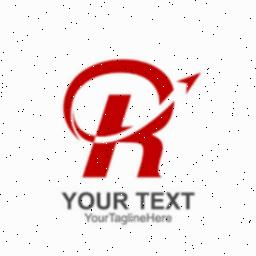e: (150, 190, 166, 210)
o: (77, 191, 95, 211)
r: (58, 54, 202, 182), (113, 191, 131, 211)
t: (134, 191, 150, 211), (181, 190, 197, 210)
u: (96, 190, 112, 210)
x: (164, 190, 182, 212)
y: (58, 190, 78, 212)
